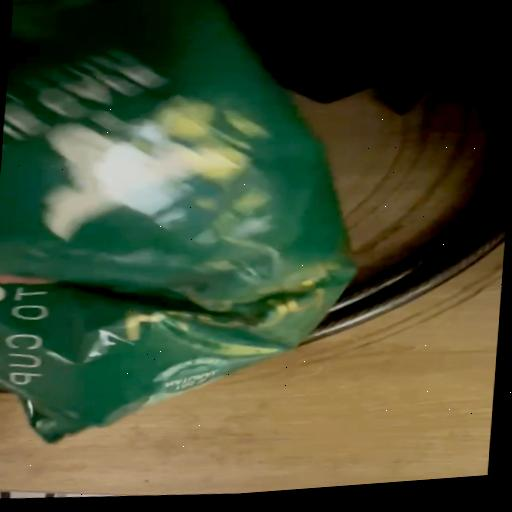cafe_xay: (0, 0, 355, 442)
